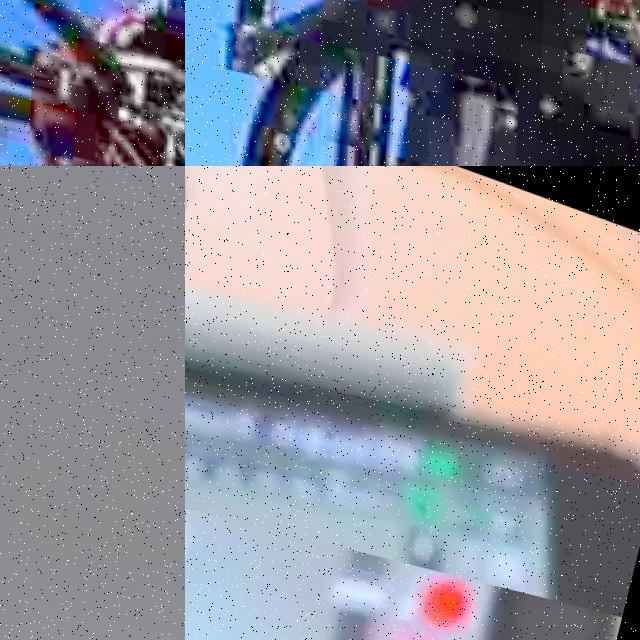0: (185, 0, 640, 166), (0, 0, 185, 166)
drone: (185, 166, 640, 617)
